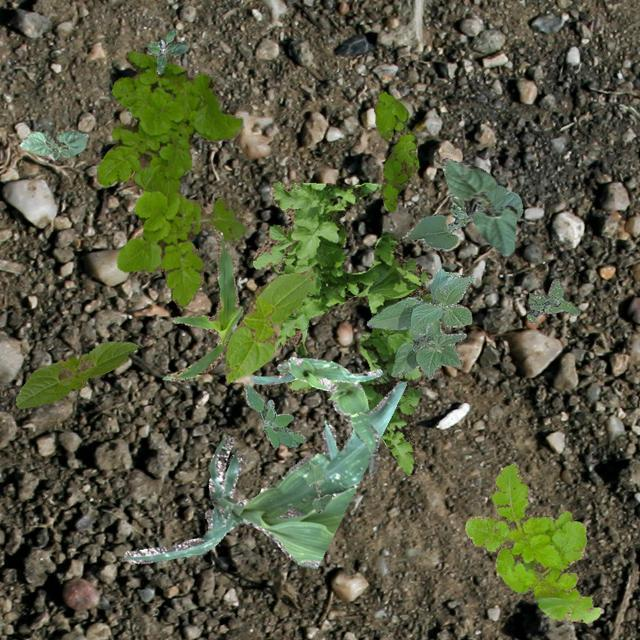crop: (122, 380, 406, 568), (162, 226, 242, 380), (276, 356, 378, 474), (366, 267, 474, 378), (224, 268, 314, 382), (14, 341, 138, 406), (404, 183, 522, 250), (440, 156, 516, 256), (250, 356, 382, 390), (18, 130, 88, 158), (306, 462, 330, 512)
weed: (252, 182, 434, 474), (96, 49, 247, 306), (464, 462, 600, 622), (372, 90, 418, 212), (242, 384, 304, 446), (526, 276, 578, 322), (146, 28, 186, 74)
